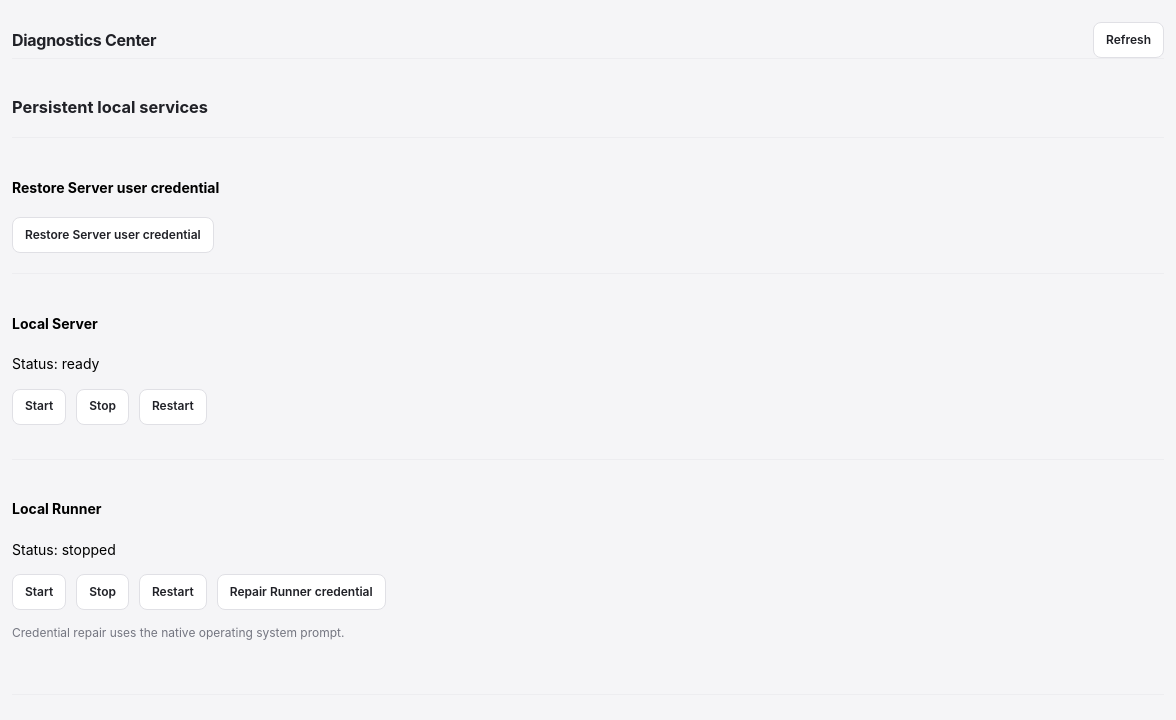
Test: persistent local services › surfaces only the safe error code returned by the service action
The image size is (1176, 720).
Step 1. Click the button "Start" below "ready" → (39, 407), box [12,389,66,425]
(page scrolled)
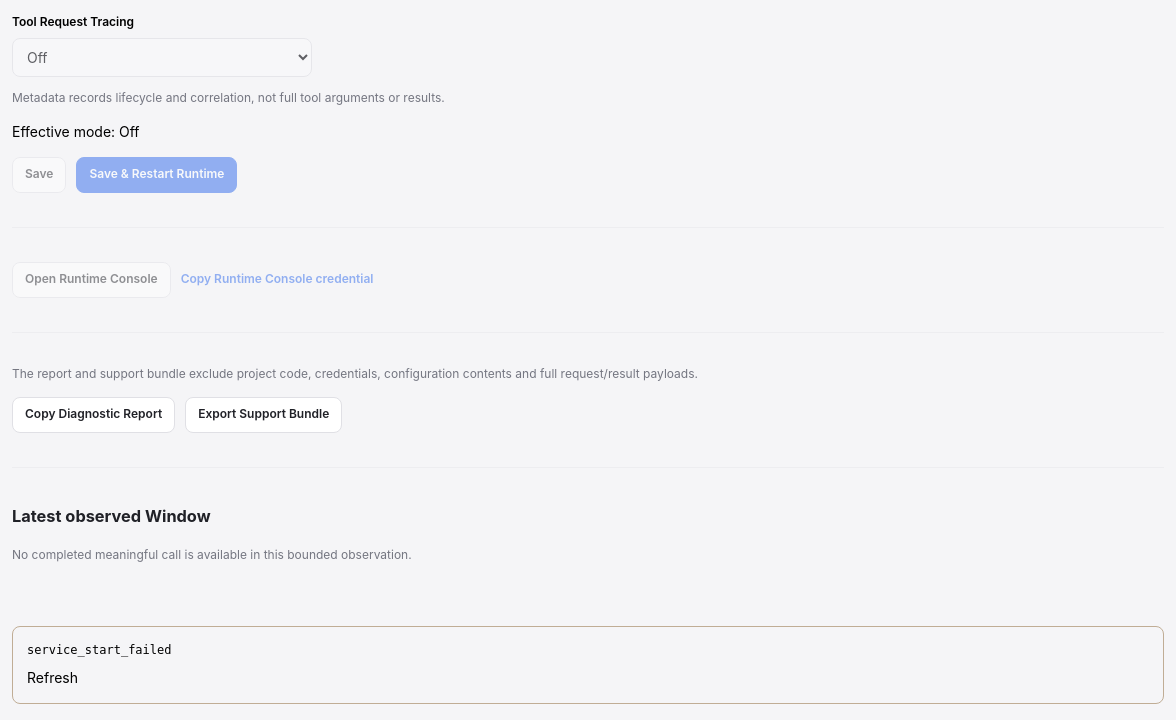
Now the message shows "service_start_failed", box [27,643,172,657]
